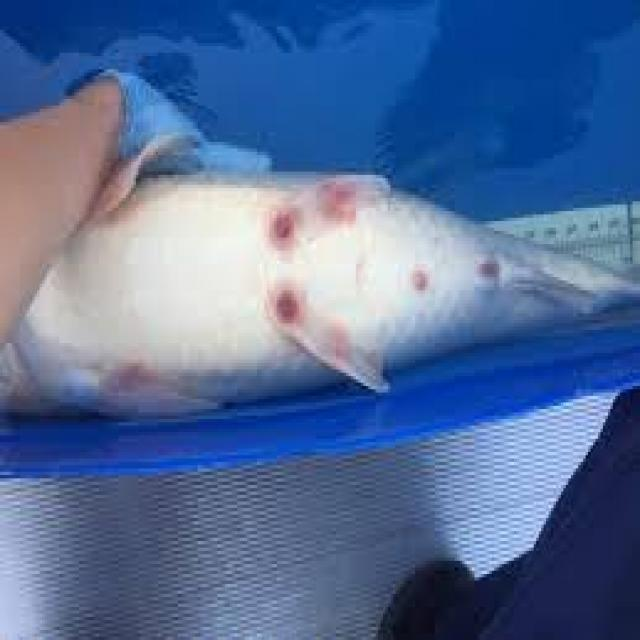EUS Disease: (0, 144, 640, 406), (160, 141, 548, 424)
